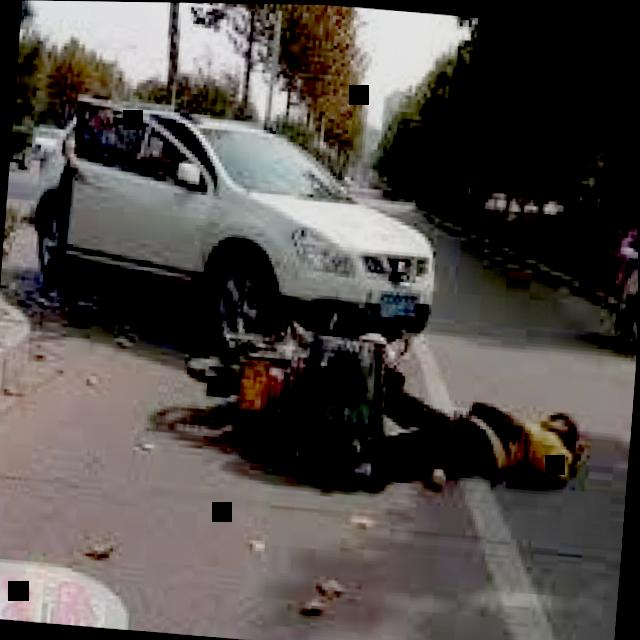Fall-Detected: (327, 351, 608, 504)
